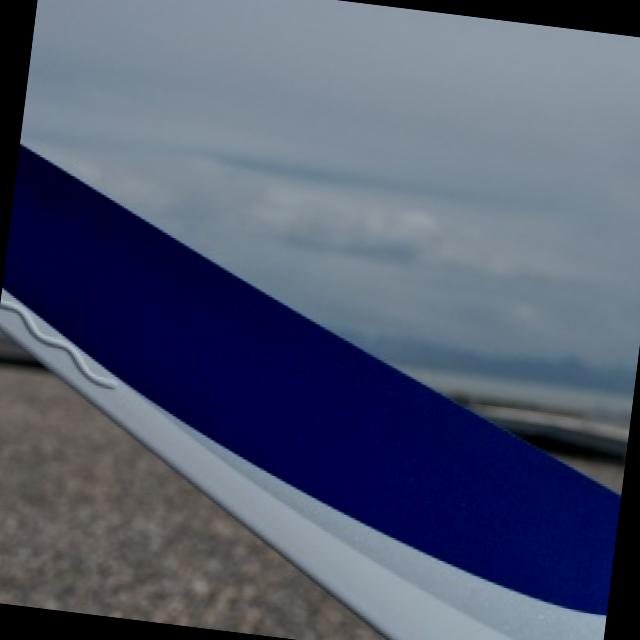healthy: (0, 146, 617, 640)
